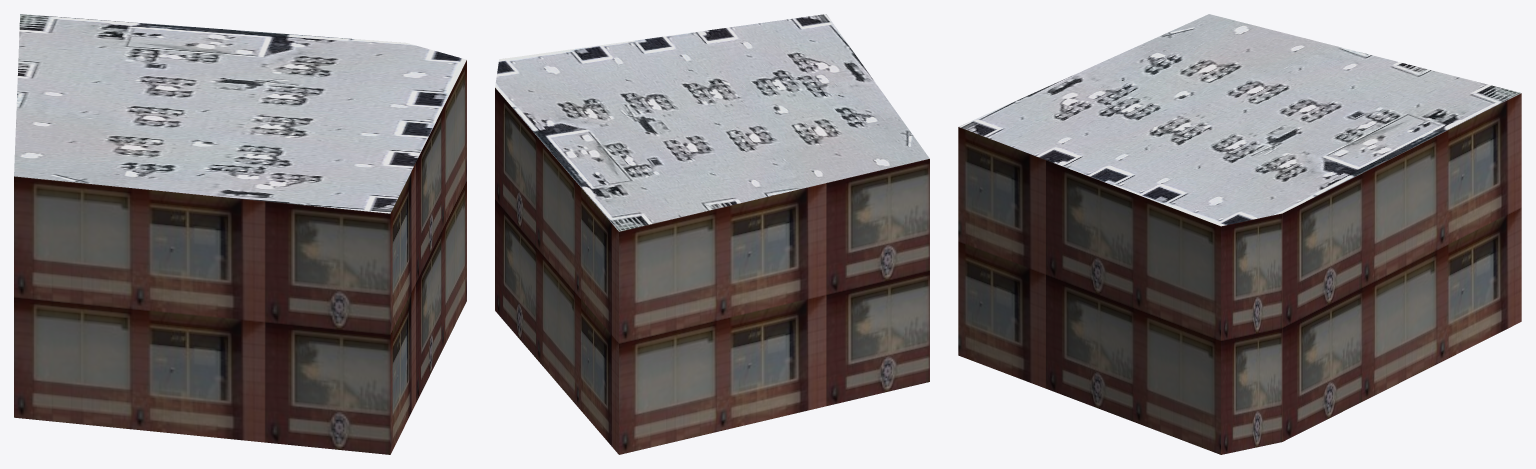
The model's file is ResTex__4963.fbx.
The picture shows the model from 3 angles, left to right: view 1: azimuth 30°, elevation 25°; view 2: azimuth 150°, elevation 25°; view 3: azimuth 270°, elevation 25°; orthographic projection. The views are drawn at different scales.
Parts seen in each view (by area): view 1: CityEngineMaterial_13_m, CityEngineMaterial_m; view 2: CityEngineMaterial_13_m, CityEngineMaterial_m; view 3: CityEngineMaterial_13_m, CityEngineMaterial_m.
Part boxes in pixels (bbox=[...]): CityEngineMaterial_13_m: bbox=[14, 60, 466, 454]; CityEngineMaterial_m: bbox=[14, 14, 466, 213]; CityEngineMaterial_13_m: bbox=[495, 88, 929, 454]; CityEngineMaterial_m: bbox=[495, 14, 929, 231]; CityEngineMaterial_13_m: bbox=[958, 93, 1521, 454]; CityEngineMaterial_m: bbox=[958, 14, 1521, 226].
Bounding box in the file's own units: 11.95 × 6 × 13.4.
Materials: 2 (2 with a texture image).
